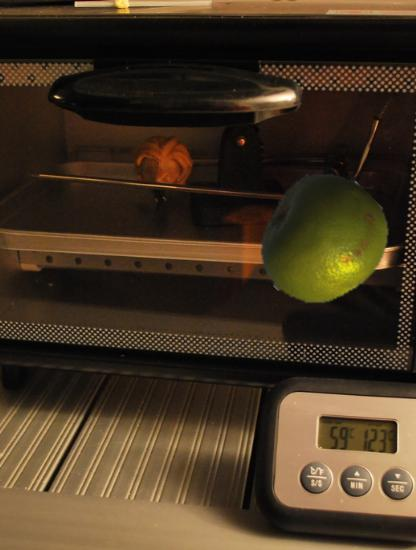Pomelo: (255, 174, 388, 307)
